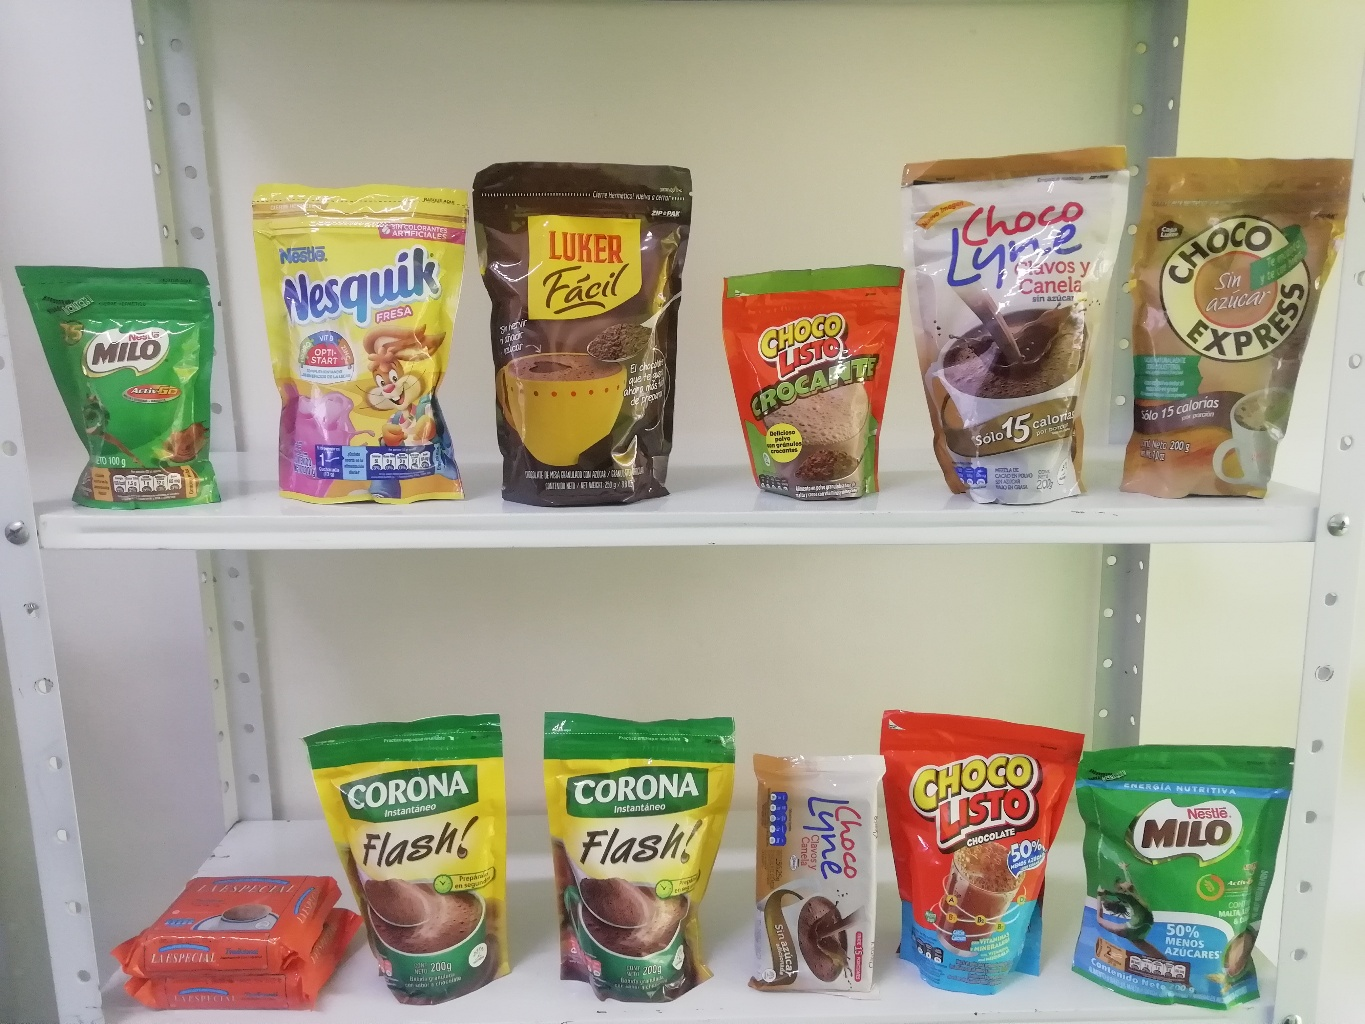COL0170102DYP10000: (721, 271, 909, 501)
COL0170104DYP20000: (879, 706, 1086, 995)
COL0170203DYP10000: (13, 260, 234, 509)
COL0170205DYP20000: (1073, 745, 1294, 1011)
COL0170305DYP20000: (248, 181, 477, 506)
